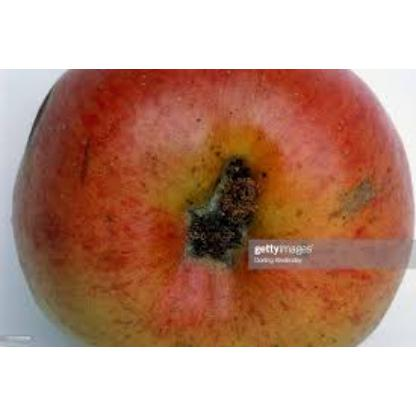apple: (27, 78, 393, 328)
